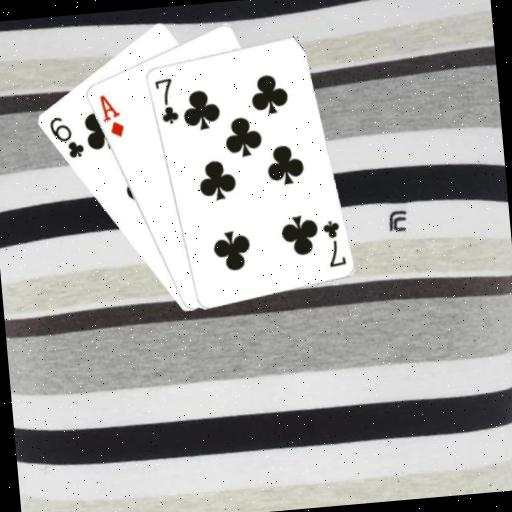6C: (45, 111, 86, 162)
7C: (150, 74, 180, 127), (318, 216, 348, 269)
AD: (95, 90, 126, 141)
